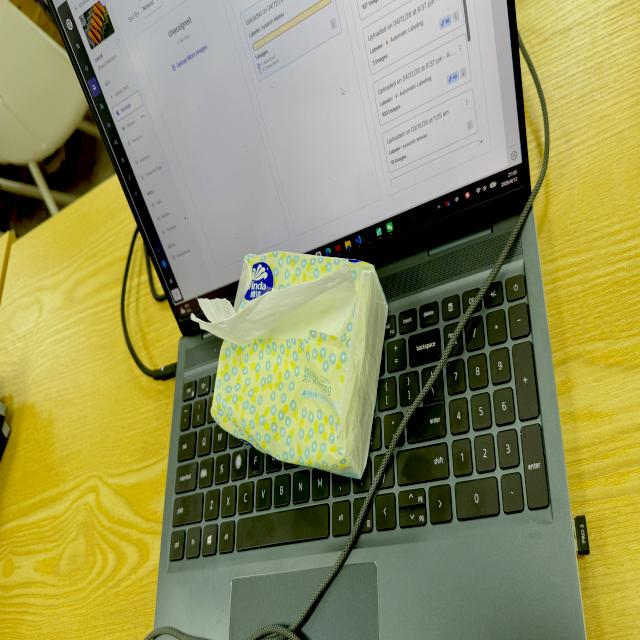tissue: (194, 253, 385, 475)
